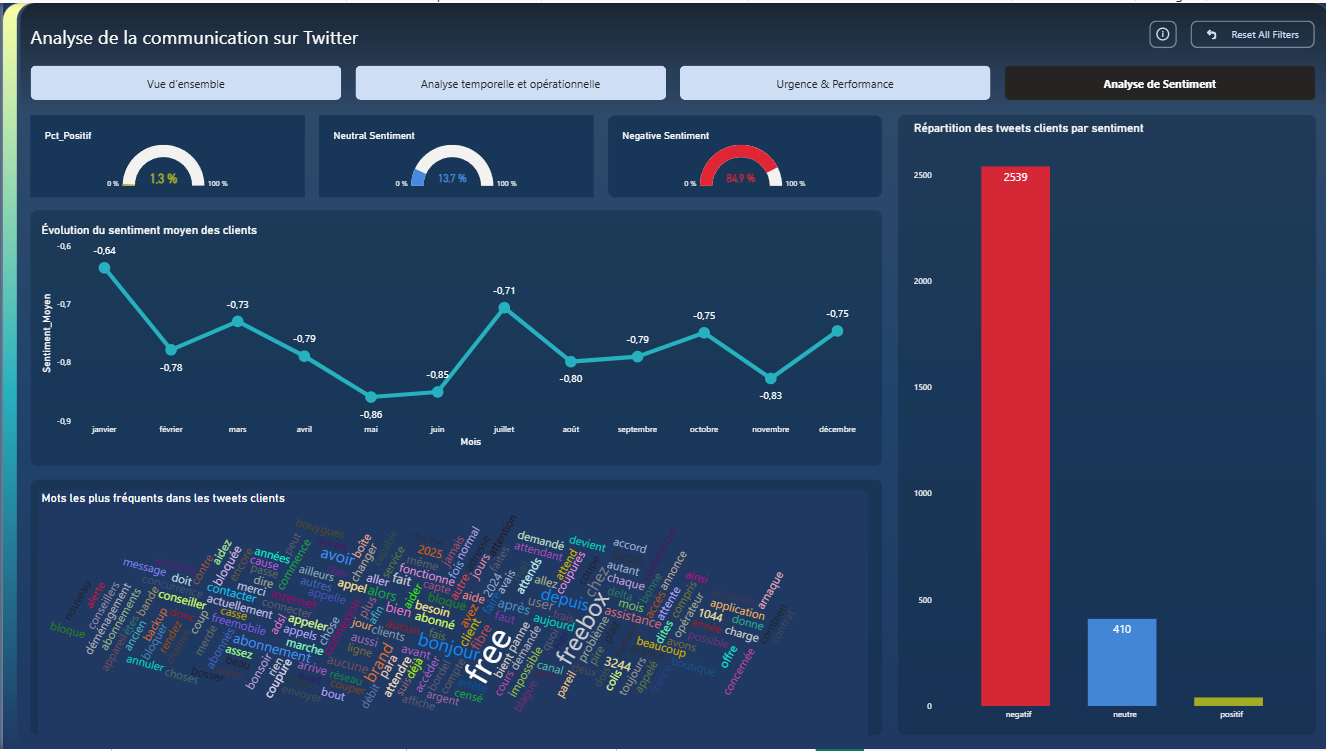

The page's visual inventory and layout, read from the dashboard file:
{"tool":"powerbi","page":{"name":" Analyse de Sentiment","canvas":[1920,1080],"ordinal":3},"visuals":[{"type":"gauge","fields":{"Y":["Mesures.Pct_Positif"]},"box":[40,162,397,118],"z":0},{"type":"gauge","title":"Neutral Sentiment","fields":{"Y":["Mesures.Pct_Neutre"]},"box":[458,162,397,118.3],"z":1000},{"type":"gauge","title":"Negative Sentiment","fields":{"Y":["Mesures.Pct_Negatif"]},"box":[875,162,397,118.3],"z":2000},{"type":"textbox","box":[40,30,599.9,50],"z":4000},{"type":"pageNavigator","box":[40,90,1860,50],"z":5000},{"type":"actionButton","box":[1720.1,25,180,40],"z":6000},{"type":"actionButton","box":[1660,25.3,40,40],"z":7000},{"type":"lineChart","title":"Évolution du sentiment moyen des clients","fields":{"Y":["Mesures.Sentiment_Moyen"],"Category":["Calendrier.Annee","Calendrier.Mois","Calendrier.Semaine_Annee"]},"box":[50.3,319.3,1201.2,330.2],"z":9000},{"type":"WordCloud1447959067750","title":"Mots les plus fréquents dans les tweets clients","fields":{"Category":["tweets_scored_llm_new.key_phrases"]},"box":[50.3,706.6,1201.2,354.6],"z":10000},{"type":"columnChart","title":"Répartition des tweets clients par sentiment","fields":{"Category":["tweets_scored_llm_new.sentiment_label"],"Y":["Mesures.Nb_Tweets_clients"]},"box":[1314,169.9,585.6,877.8],"z":11000}]}

Visuals, with their boxes in screenshot pixels (x1, y1, x2, y2), scaled from the page's 1920x1080 canvas onto the 1326x751 screenshot:
gauge - Mesures.Pct_Positif: {"x1": 28, "y1": 113, "x2": 302, "y2": 195}
"Neutral Sentiment" gauge: {"x1": 316, "y1": 113, "x2": 590, "y2": 195}
"Negative Sentiment" gauge: {"x1": 604, "y1": 113, "x2": 878, "y2": 195}
textbox: {"x1": 28, "y1": 21, "x2": 442, "y2": 56}
pageNavigator: {"x1": 28, "y1": 63, "x2": 1312, "y2": 97}
actionButton: {"x1": 1188, "y1": 17, "x2": 1312, "y2": 45}
actionButton: {"x1": 1146, "y1": 18, "x2": 1174, "y2": 45}
"Évolution du sentiment moyen des clients" lineChart: {"x1": 35, "y1": 222, "x2": 864, "y2": 452}
"Mots les plus fréquents dans les tweets clients" WordCloud1447959067750: {"x1": 35, "y1": 491, "x2": 864, "y2": 738}
"Répartition des tweets clients par sentiment" columnChart: {"x1": 907, "y1": 118, "x2": 1312, "y2": 729}
